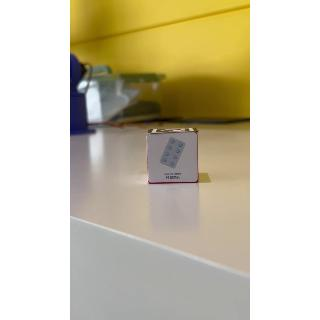Tablet: (145, 134, 200, 184)
